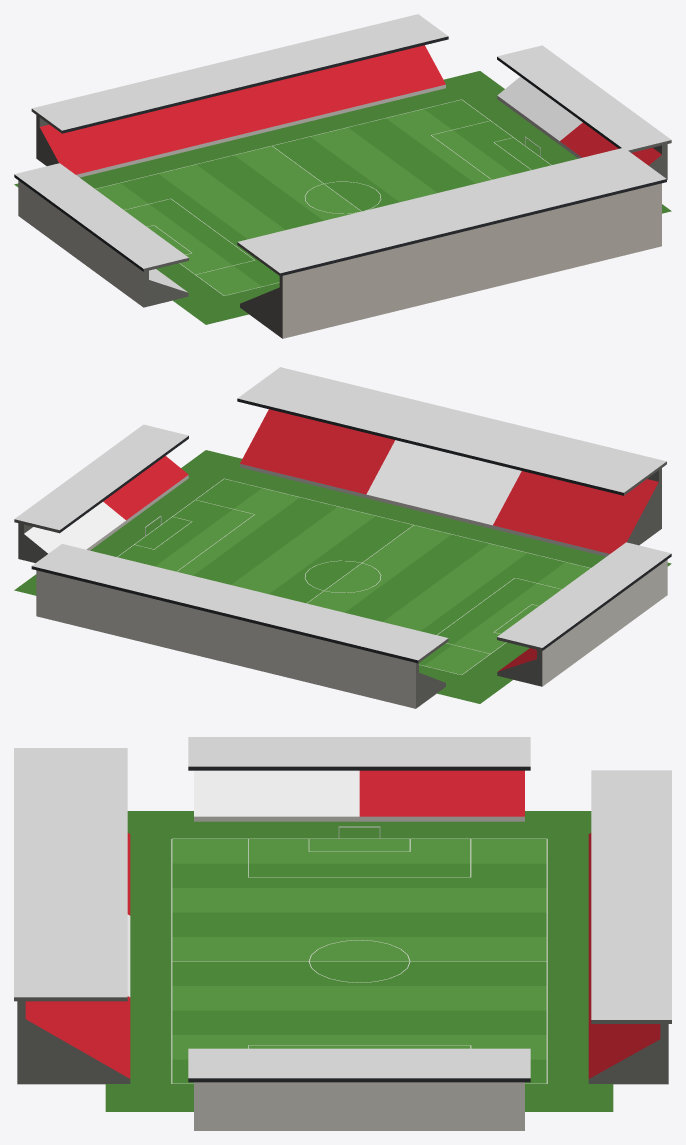
The model's file is stade_sion.glb.
3 views of the same model, one above another, from view 1: azimuth 30°, elevation 25°; view 2: azimuth 150°, elevation 25°; view 3: azimuth 270°, elevation 25° (orthographic). The views are drawn at different scales.
Parts seen in each view (by area): view 1: stade_sion; view 2: stade_sion; view 3: stade_sion.
Boxes of the visible parts, x1,y1,x2,y2 form: stade_sion: (14,14,671,338); stade_sion: (14,367,671,708); stade_sion: (14,737,671,1130).
Size of the model in its own units: 146 by 17.8 by 119.
1 material, 1 textured.
